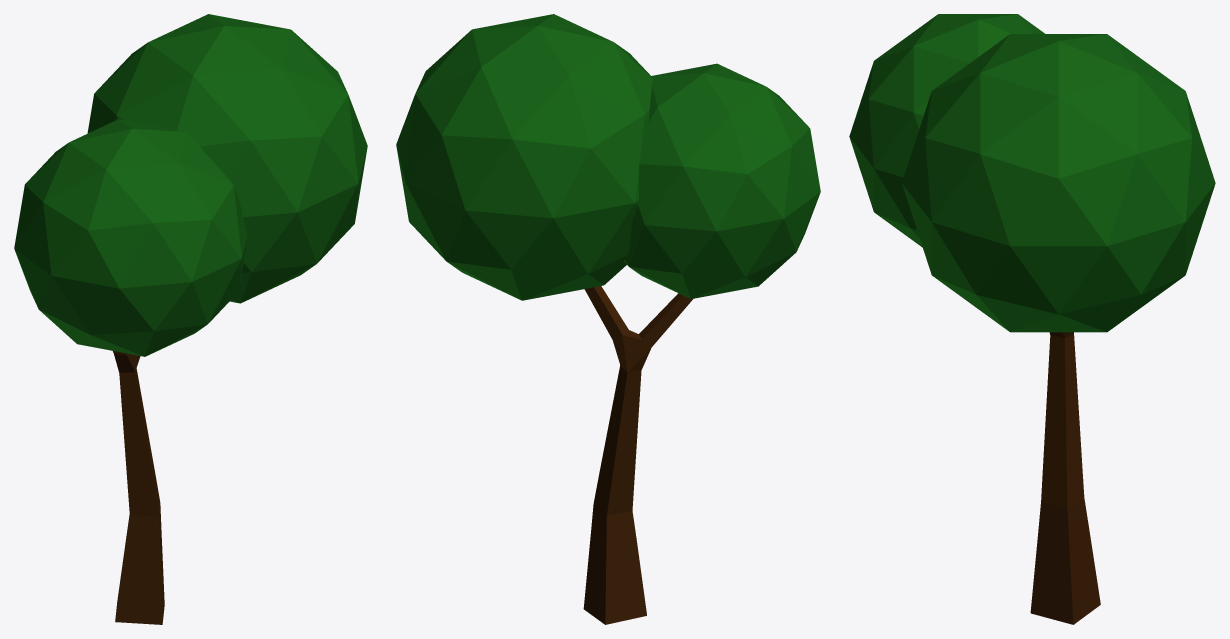
File: Tree1.2.fbx
3 renders of one model, left to right at view 1: azimuth 30°, elevation 25°; view 2: azimuth 150°, elevation 25°; view 3: azimuth 270°, elevation 25°, orthographic. The views are drawn at different scales.
Visible parts, largest first — view 1: Icosphere.005, Icosphere.004, Tree1.2; view 2: Icosphere.004, Icosphere.005, Tree1.2; view 3: Icosphere.004, Icosphere.005, Tree1.2.
Boxes of the visible parts, x1,y1,x2,y2 form: Icosphere.005: [14, 119, 247, 356]; Icosphere.004: [87, 14, 367, 303]; Tree1.2: [113, 351, 164, 624]; Icosphere.004: [396, 14, 652, 300]; Icosphere.005: [624, 63, 820, 298]; Tree1.2: [583, 286, 692, 624]; Icosphere.004: [902, 34, 1215, 332]; Icosphere.005: [849, 14, 1044, 247]; Tree1.2: [1030, 332, 1100, 624].
Bounding box in the file's own units: 669 × 1043 × 566.
